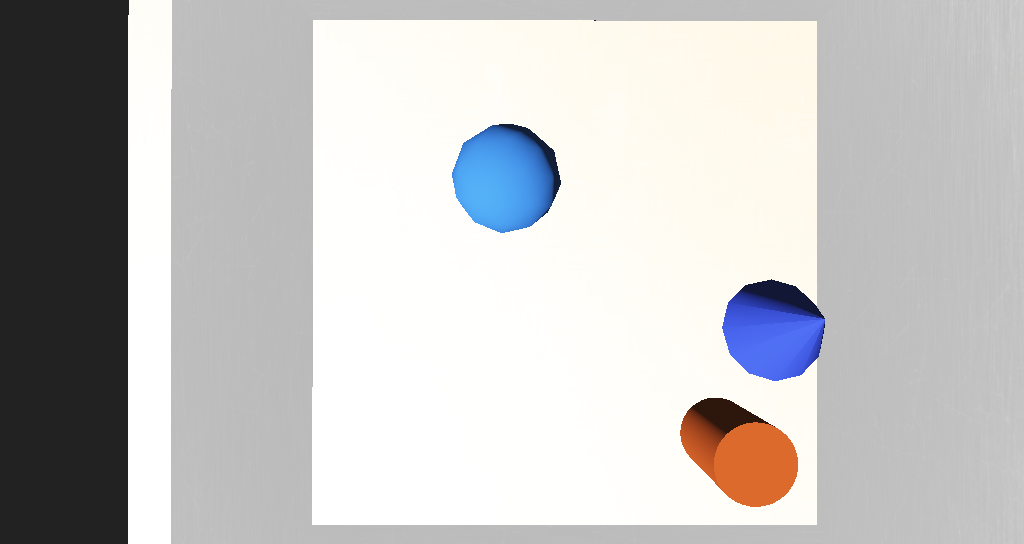cone: (573, 320, 627, 358)
cylinder: (603, 265, 677, 317)
sphere: (441, 205, 502, 253)
